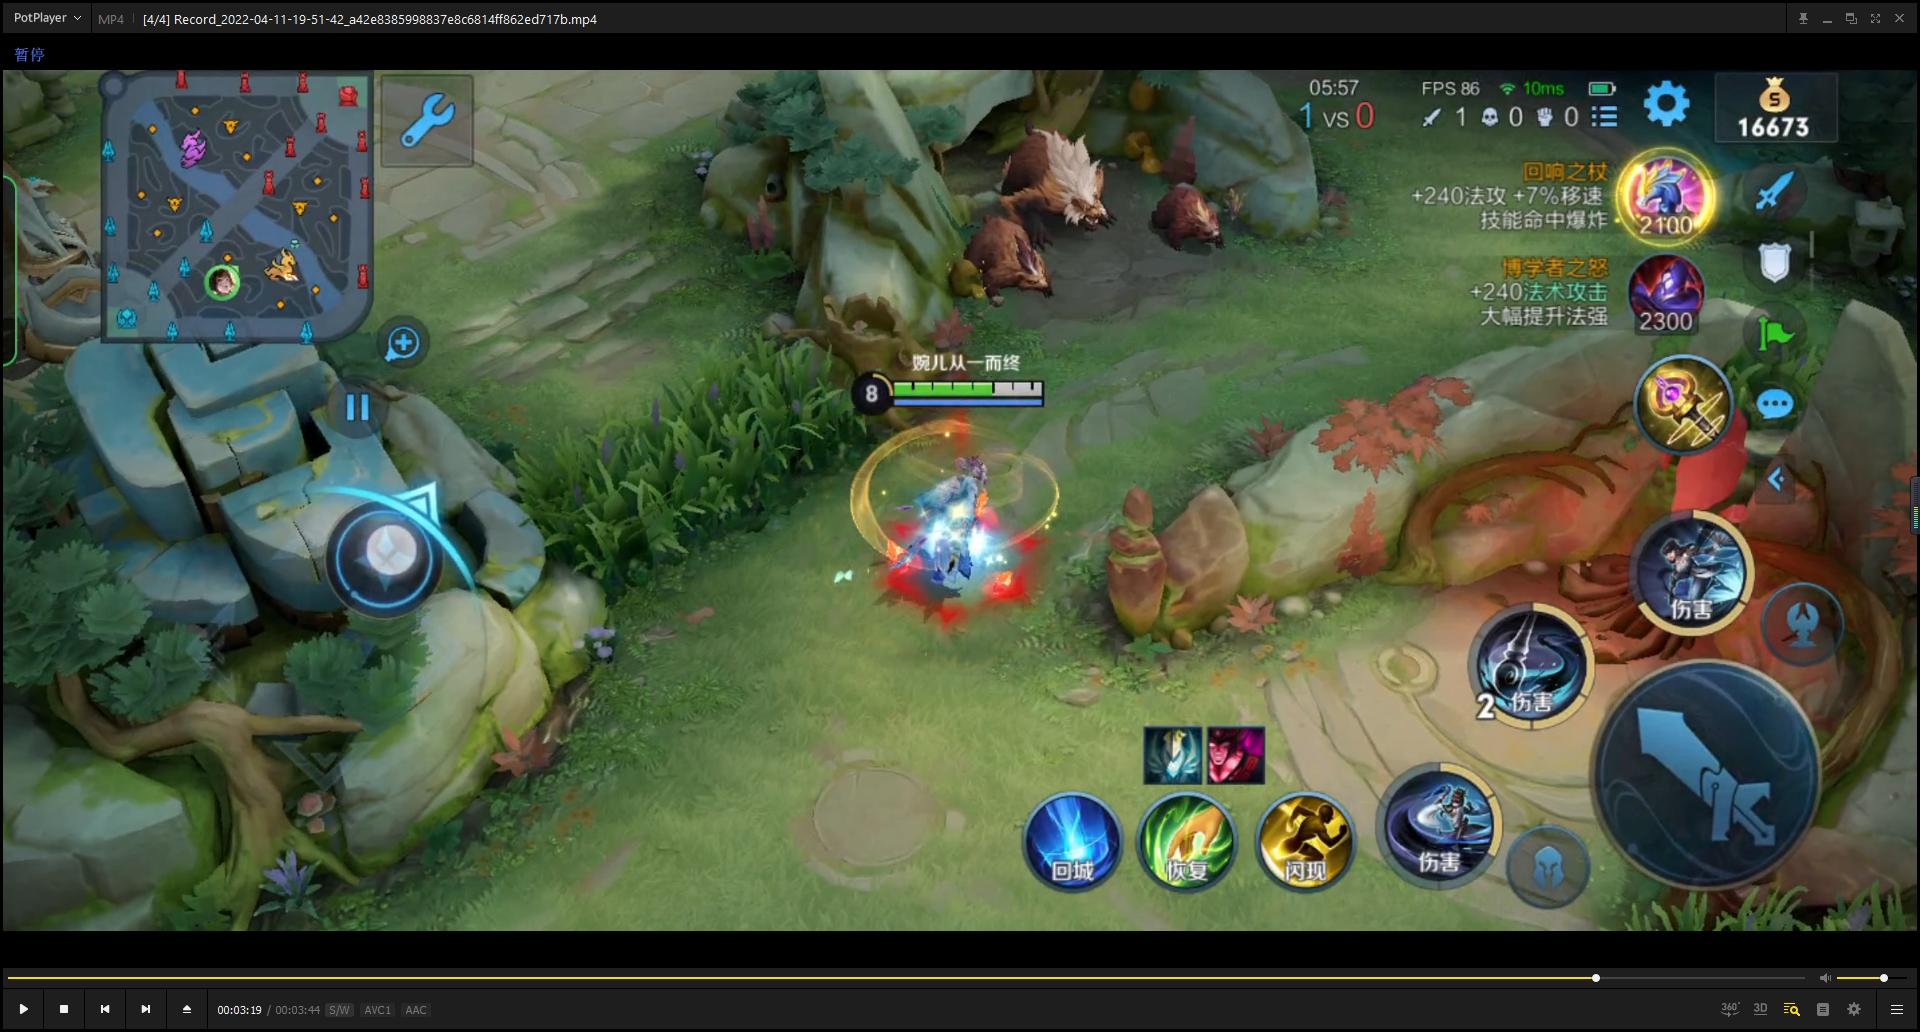Hero: (845, 435, 1079, 630)
Pig: (959, 98, 1133, 255), (935, 189, 1064, 336), (1125, 159, 1247, 267)
